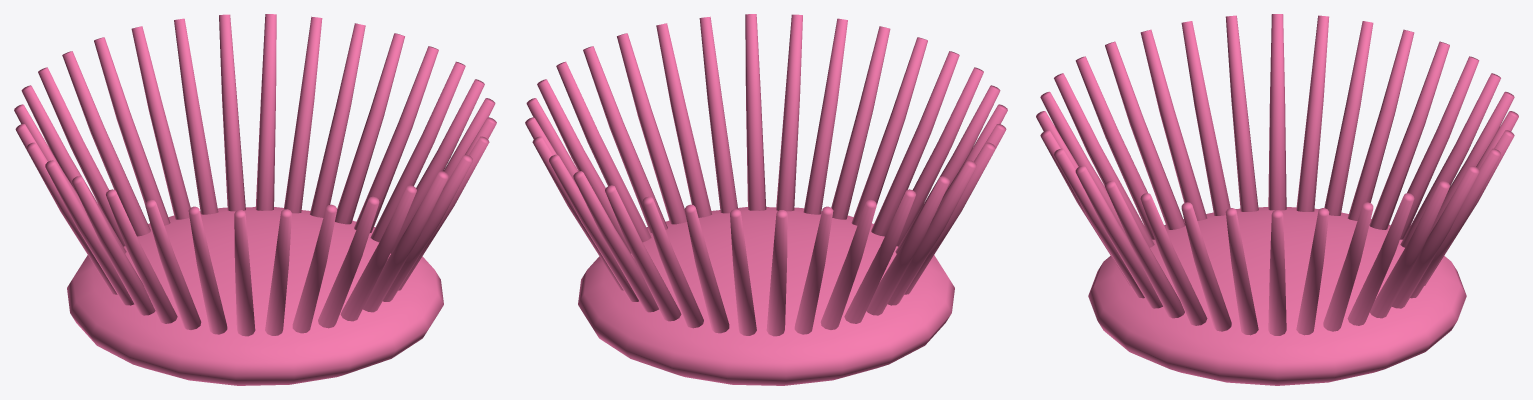
Rendered from underwater-reef-worlds-giant-anemone-0b05ecbd__7020.glb.
The picture shows the model from 3 angles, left to right: view 1: azimuth 30°, elevation 25°; view 2: azimuth 150°, elevation 25°; view 3: azimuth 270°, elevation 25°; orthographic projection.
Visible parts, largest first — view 1: giant-anemone; view 2: giant-anemone; view 3: giant-anemone.
Boxes of the visible parts, x1,y1,x2,y2 form: giant-anemone: [14, 14, 496, 385]; giant-anemone: [525, 14, 1007, 385]; giant-anemone: [1036, 14, 1518, 385].
Bounding box in the file's own units: 1.28 × 0.6565 × 1.28.
